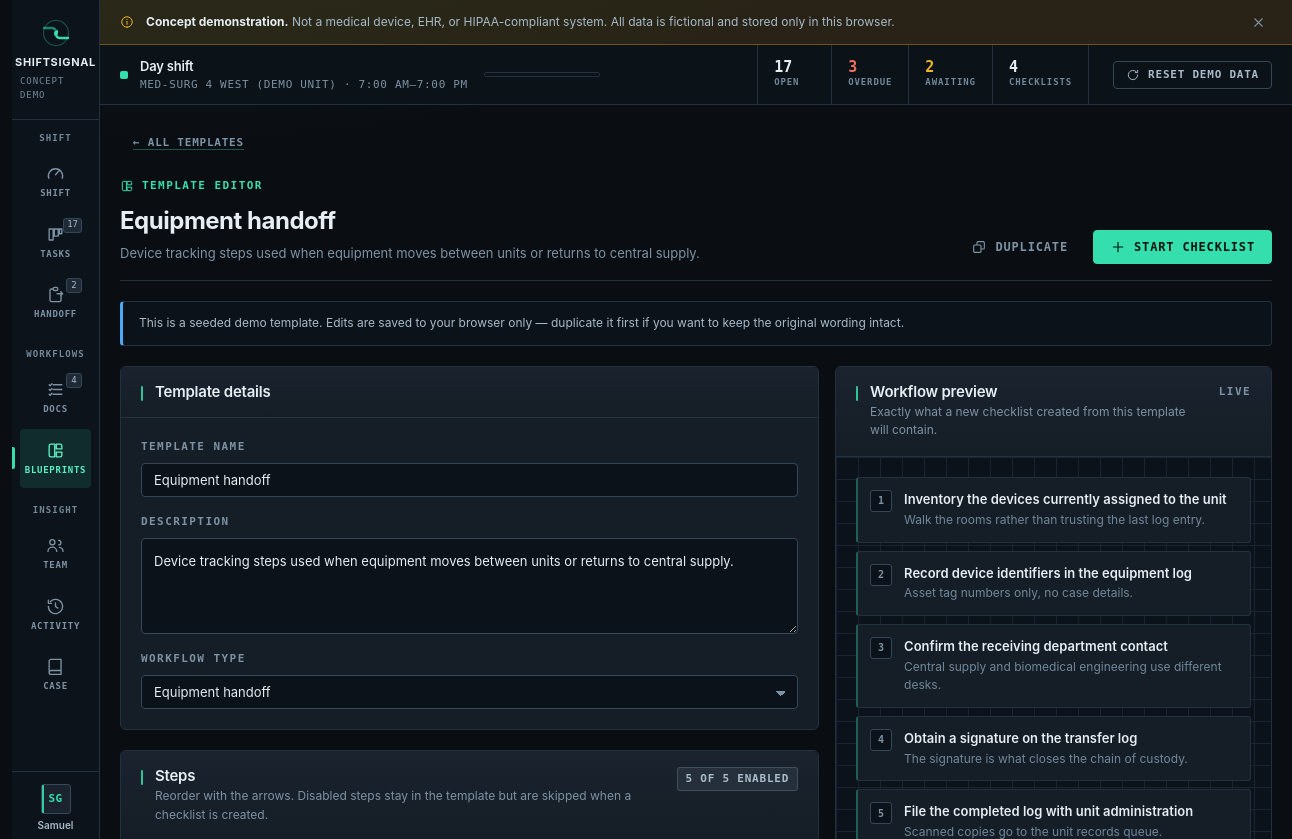
Test: Template workflows › duplicates a template into an editable copy
This screenshot has width=1292, height=839.
Click the button "Duplicate" at x=1020, y=247, box [954,230,1085,264]
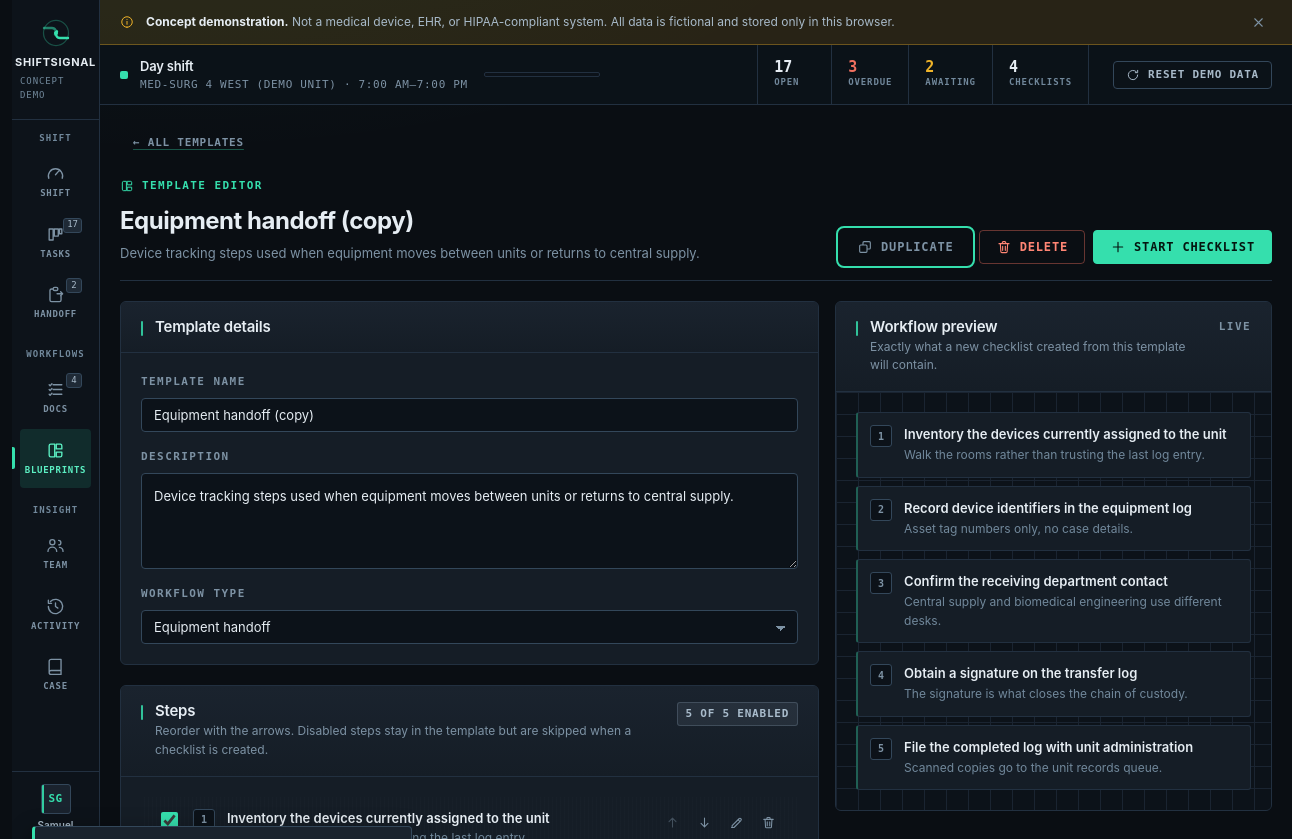
Expected: the heading "Equipment handoff (copy)" is shown, [120,206,414,235]
Expected: the button "Delete" is shown, [979,230,1085,264]
